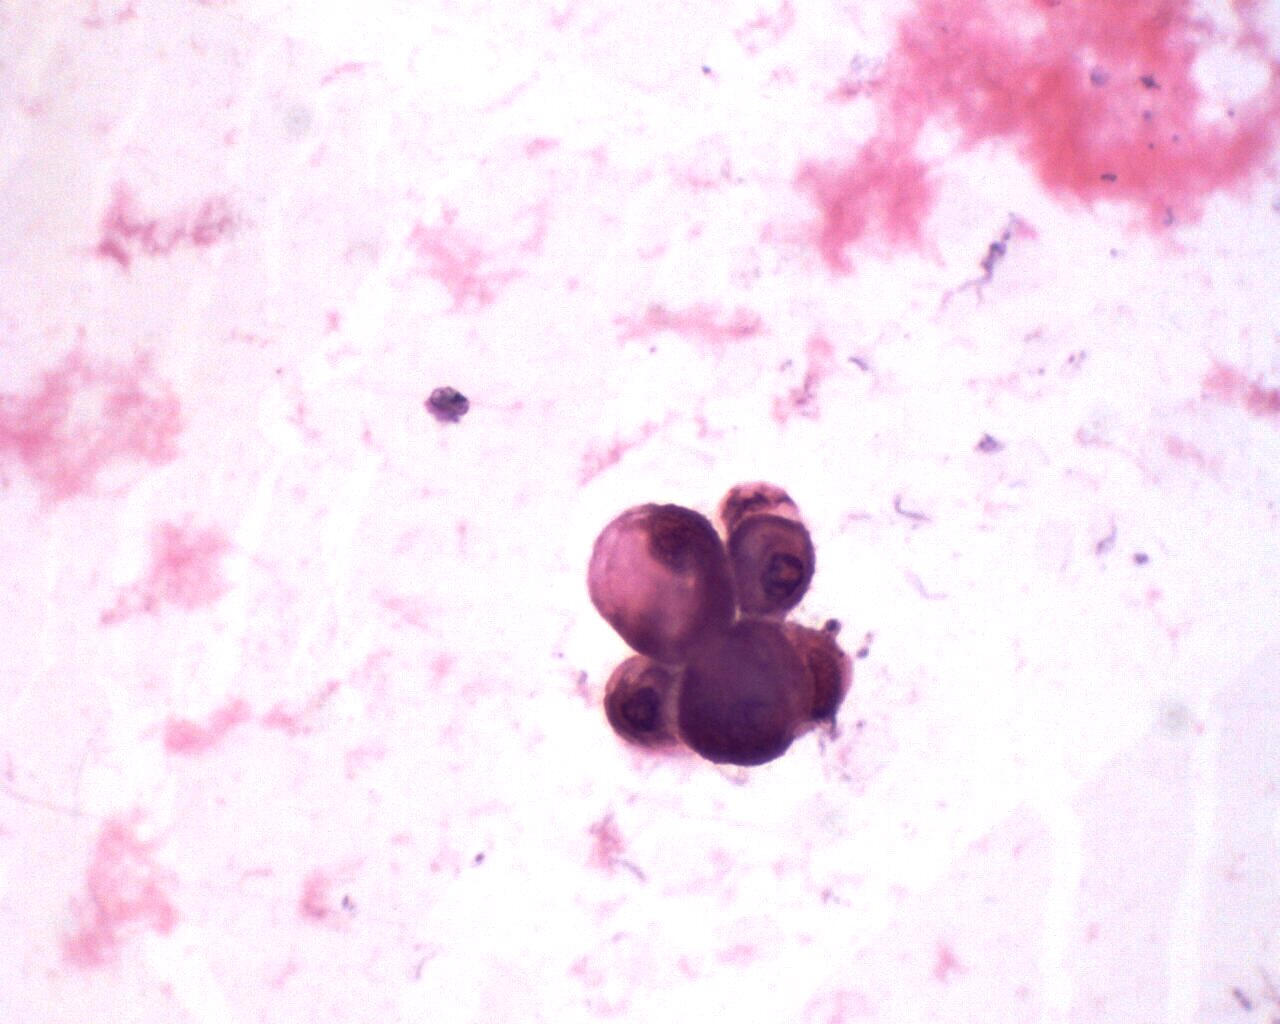ab: (585, 499, 734, 666), (680, 624, 808, 769), (723, 498, 822, 622)
